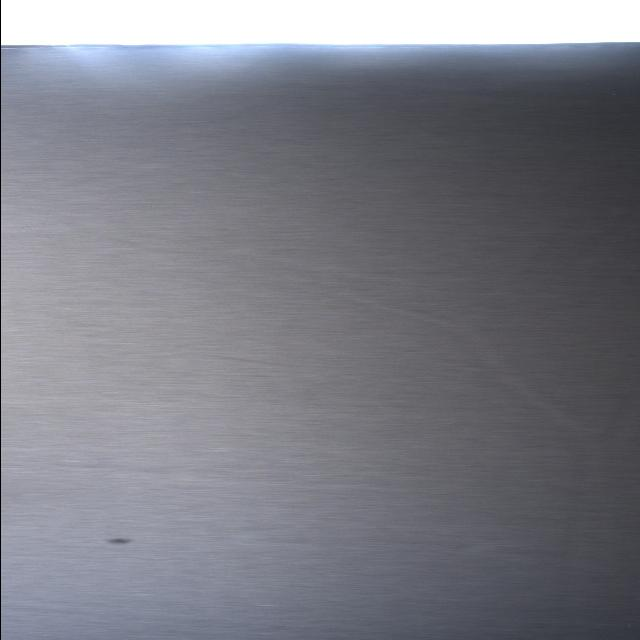crease: (335, 289, 599, 428), (9, 603, 263, 627), (201, 353, 273, 367)
